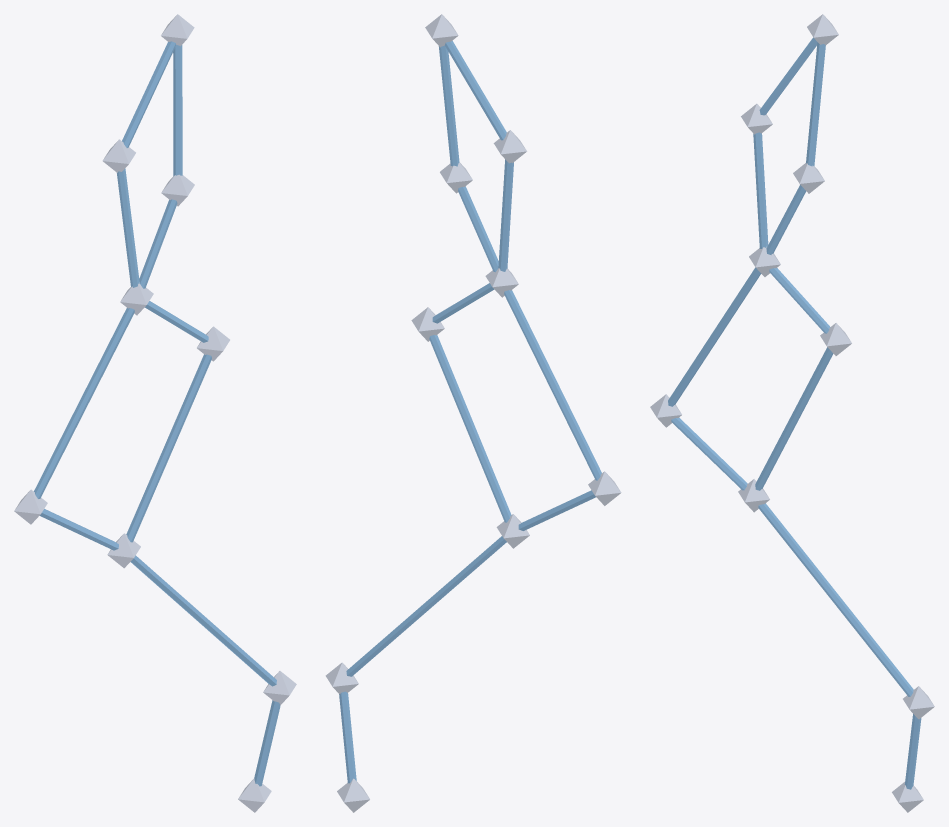
The model's file is constellation-lac.glb.
3 renders of one model, left to right at view 1: azimuth 30°, elevation 25°; view 2: azimuth 150°, elevation 25°; view 3: azimuth 330°, elevation 25°, orthographic. The views are drawn at different scales.
Bounding box in the file's own units: 0.5834 × 1.58 × 0.127.
